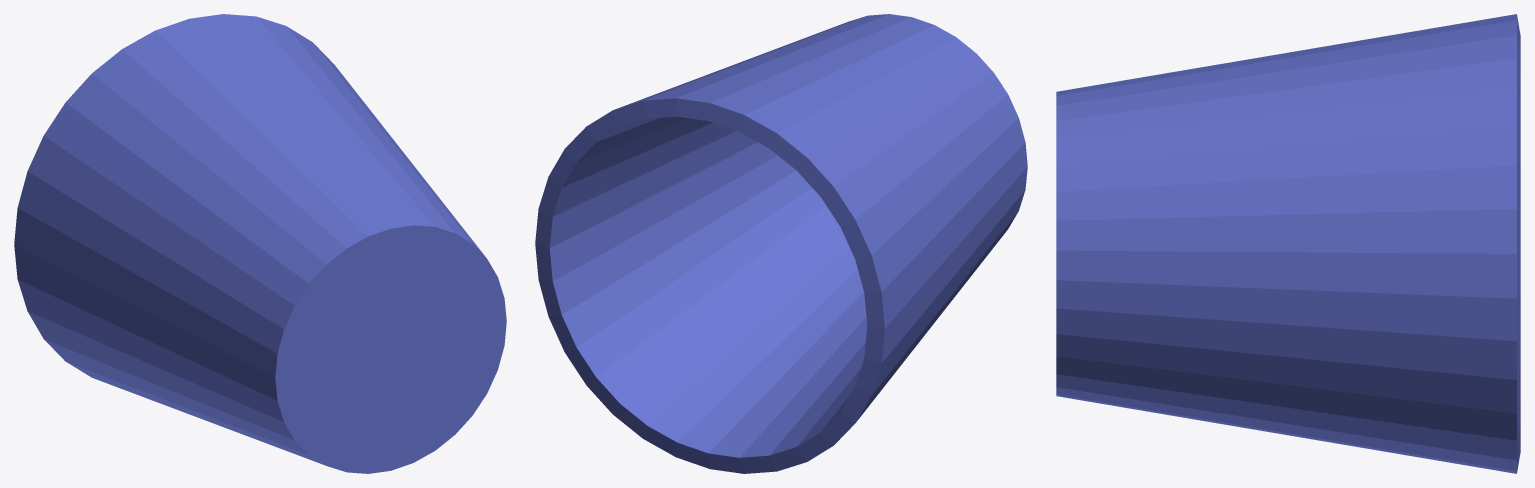
The model's file is FlowerPot.fbx.
3 views of the same model, side by side, from view 1: azimuth 30°, elevation 25°; view 2: azimuth 150°, elevation 25°; view 3: azimuth 270°, elevation 25° (orthographic). The views are drawn at different scales.
Parts seen in each view (by area): view 1: FlowerPot; view 2: FlowerPot; view 3: FlowerPot.
Part boxes in pixels (x1,y1,x2,y2): FlowerPot: [14, 14, 506, 473]; FlowerPot: [535, 14, 1027, 473]; FlowerPot: [1056, 14, 1520, 473].
Size of the model in its own units: 200 by 200 by 202.
